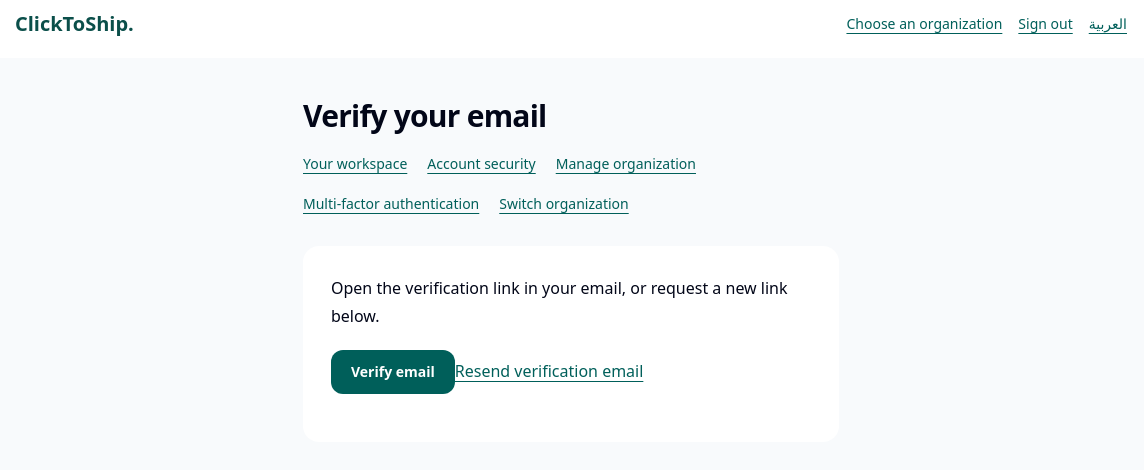
it: identity screens › keeps verification links in memory after removing the browser fragment
Click the button "Verify email" at (393, 372), box [331,350,455,394]
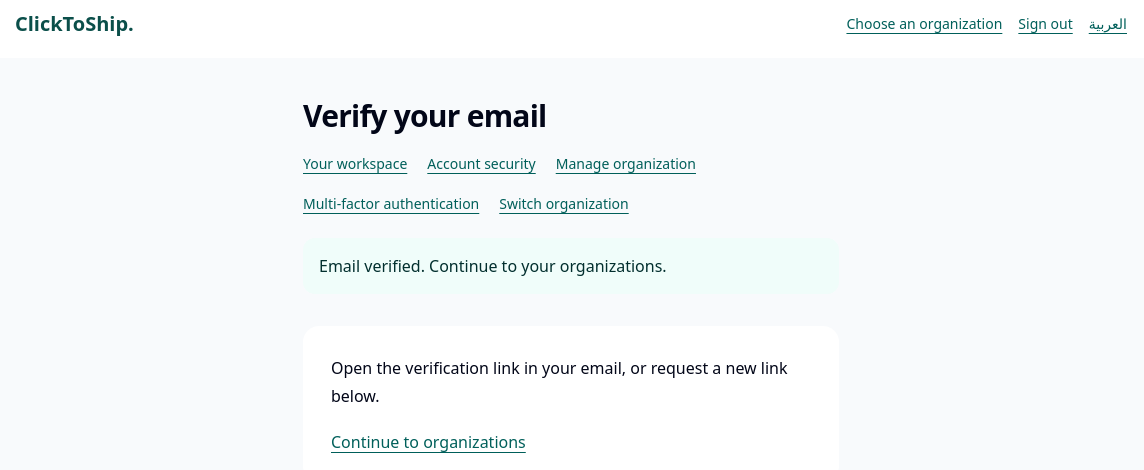
Check: the message shows "Email verified", box [319,255,667,277]
